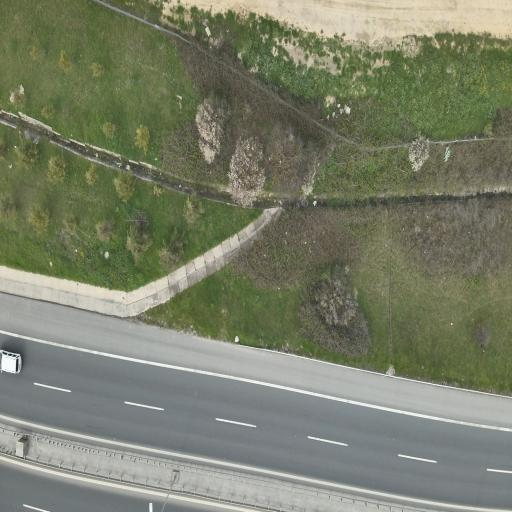car: (0, 349, 20, 372)
